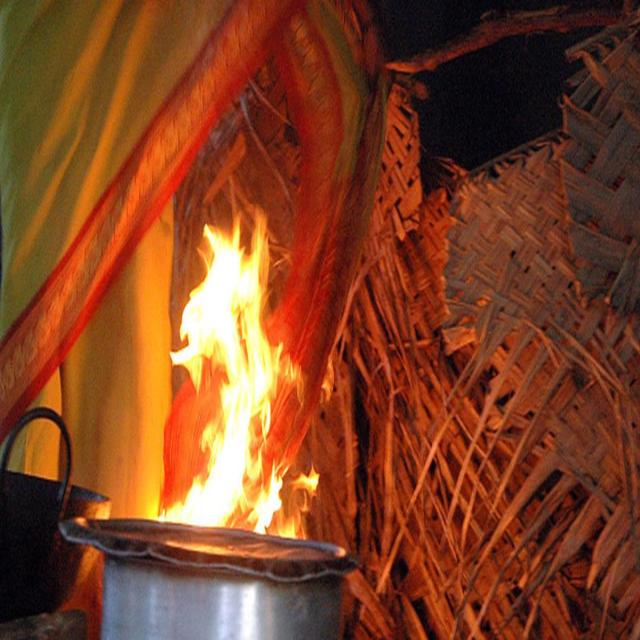fire: (163, 199, 314, 543)
